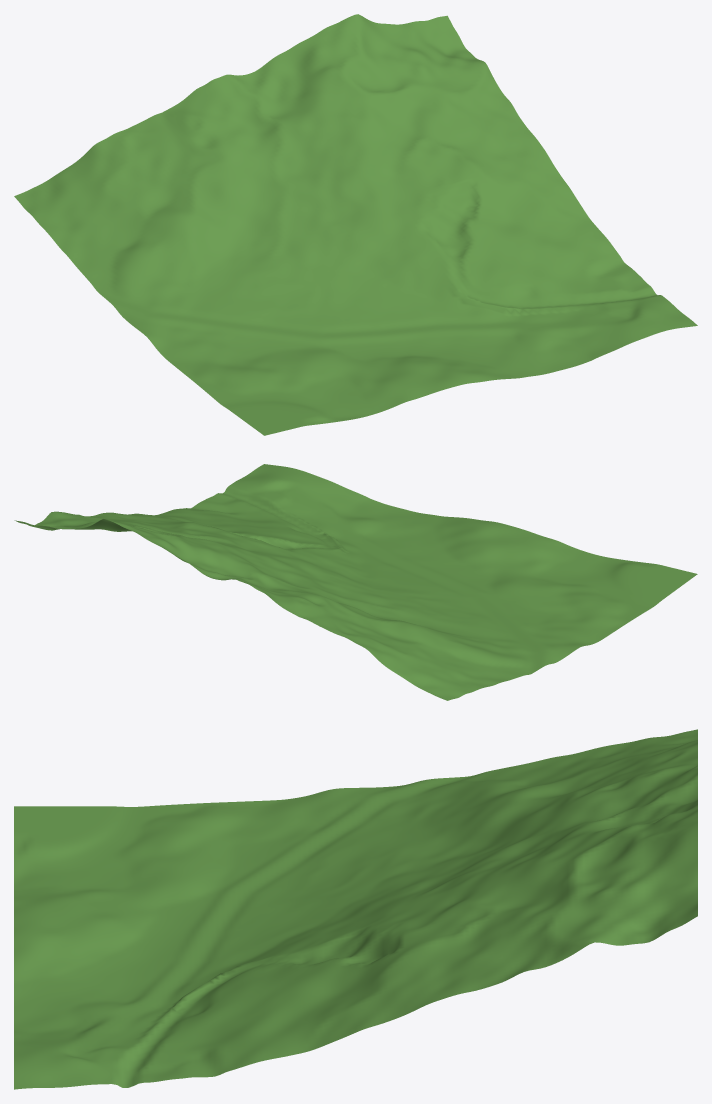
File: SM_Terrain_05_03.fbx
3 renders of one model, top to bottom at view 1: azimuth 30°, elevation 25°; view 2: azimuth 150°, elevation 25°; view 3: azimuth 270°, elevation 25°, orthographic. The views are drawn at different scales.
Parts seen in each view (by area): view 1: SM_Terrain_05_03; view 2: SM_Terrain_05_03; view 3: SM_Terrain_05_03.
Boxes of the visible parts, x1,y1,x2,y2 form: SM_Terrain_05_03: [14, 14, 697, 435]; SM_Terrain_05_03: [14, 464, 697, 700]; SM_Terrain_05_03: [14, 729, 697, 1089].
Bounding box in the file's own units: 384 × 137 × 384.
